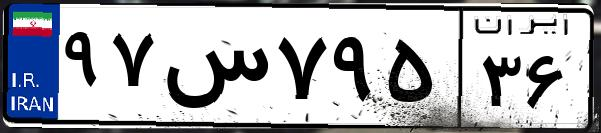3: (475, 38, 525, 113)
5: (385, 28, 445, 110)
6: (525, 38, 570, 115)
7: (270, 28, 330, 110), (110, 28, 158, 98)
9: (330, 28, 385, 110), (57, 26, 110, 100)
س: (158, 20, 270, 120)
